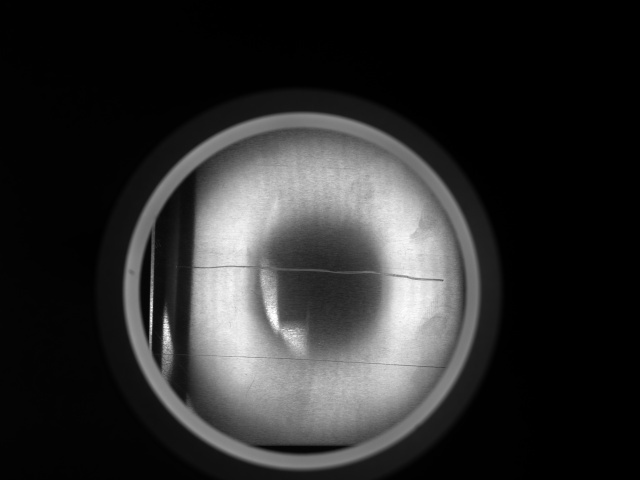ca_shang: (144, 260, 445, 284), (154, 346, 448, 367)
